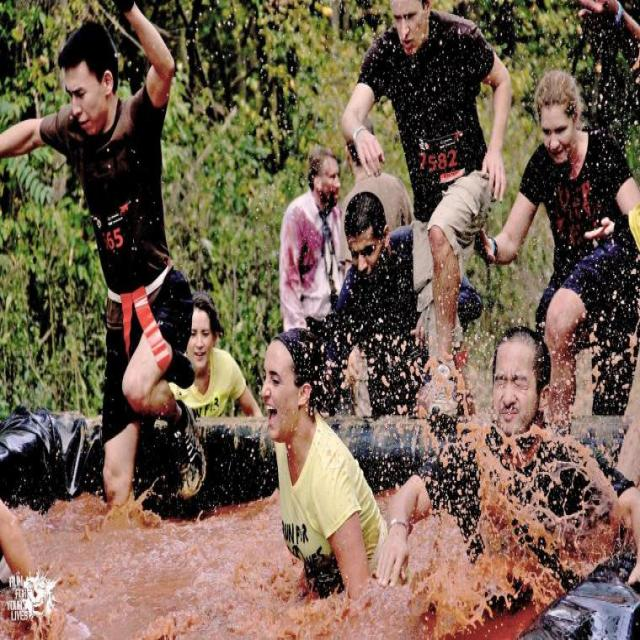body: (0, 0, 207, 514), (343, 0, 514, 439), (370, 320, 640, 594), (471, 65, 640, 436), (318, 187, 484, 418), (548, 0, 638, 413), (259, 327, 389, 606), (336, 114, 418, 426), (277, 145, 353, 337), (167, 293, 264, 422), (0, 488, 81, 638)
